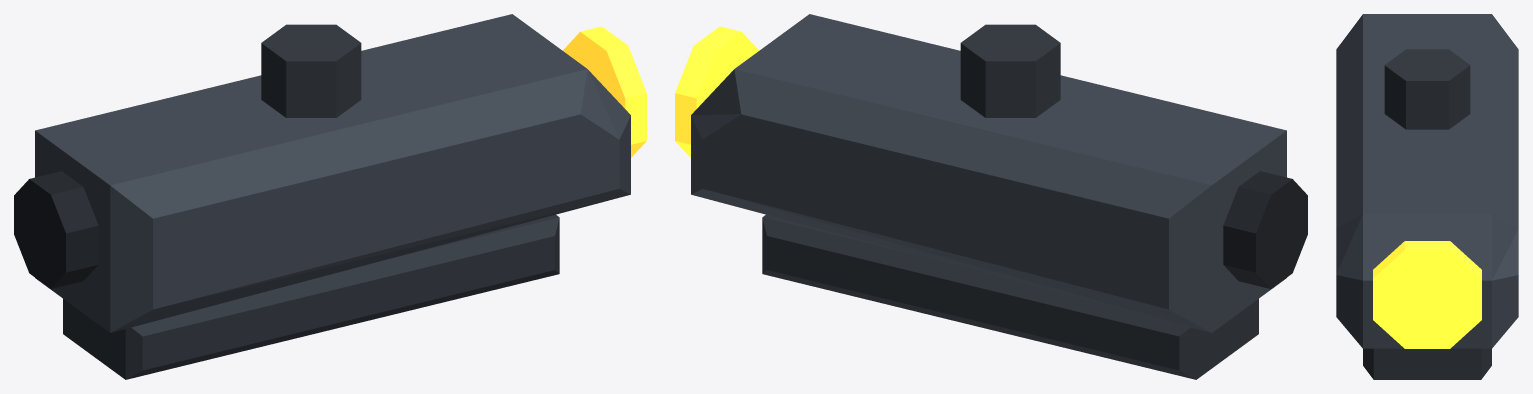
The model's file is sight_prism.glb.
3 views of the same model, side by side, from view 1: azimuth 30°, elevation 25°; view 2: azimuth 150°, elevation 25°; view 3: azimuth 270°, elevation 25° (orthographic). The views are drawn at different scales.
Parts seen in each view (by area): view 1: sight_prism; view 2: sight_prism; view 3: sight_prism.
Part boxes in pixels (bbox=[...]): sight_prism: bbox=[14, 14, 646, 379]; sight_prism: bbox=[675, 14, 1307, 379]; sight_prism: bbox=[1336, 14, 1518, 379].
Size of the model in its own units: 0.106 by 0.046 by 0.034.
